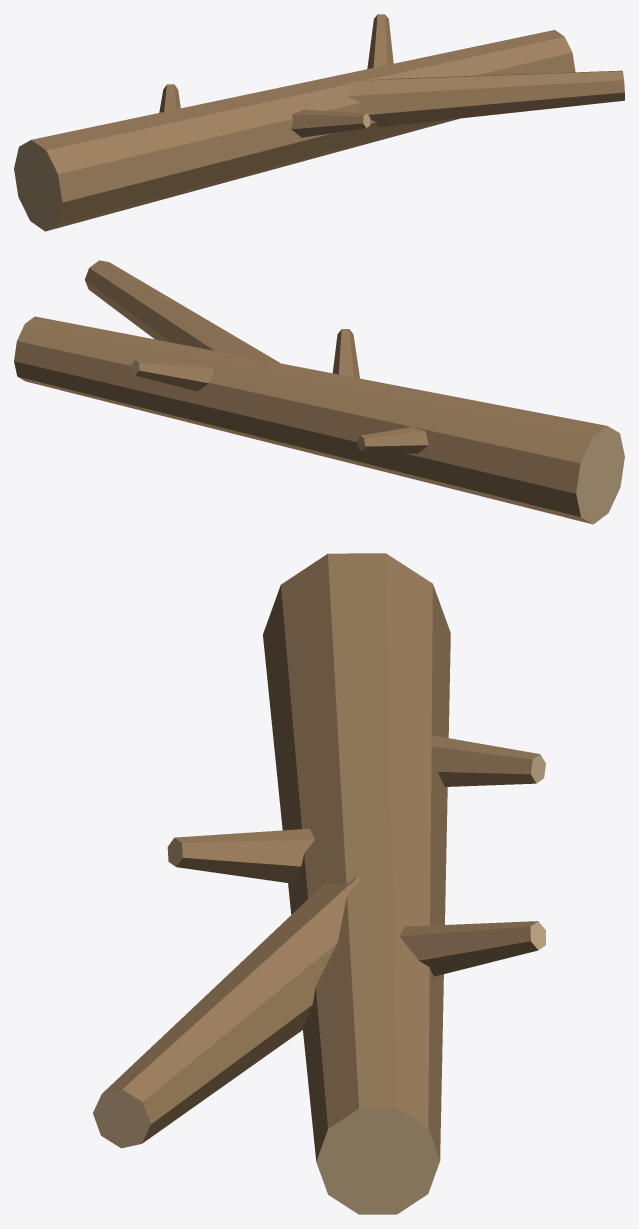
The model's file is fallen_log_02.glb.
3 renders of one model, top to bottom at view 1: azimuth 30°, elevation 25°; view 2: azimuth 150°, elevation 25°; view 3: azimuth 270°, elevation 25°, orthographic. The views are drawn at different scales.
Visible parts, largest first — view 1: Fallen_log_02; view 2: Fallen_log_02; view 3: Fallen_log_02.
Boxes of the visible parts, left/top/right/bottom form: Fallen_log_02: left=14, top=14, right=624, bottom=231; Fallen_log_02: left=14, top=260, right=624, bottom=524; Fallen_log_02: left=93, top=553, right=545, bottom=1214.
Size of the model in its own units: 5.77 by 0.8752 by 2.12.
